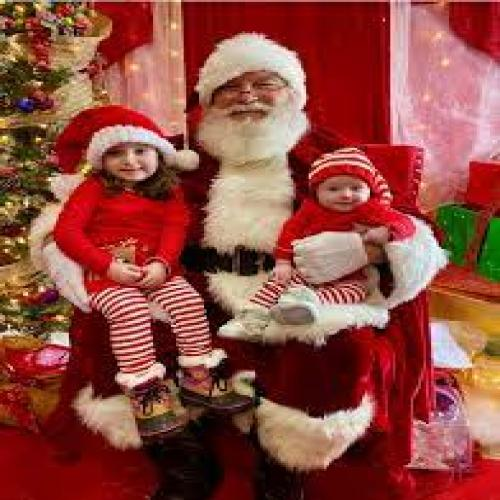Santa: (84, 32, 373, 496)
